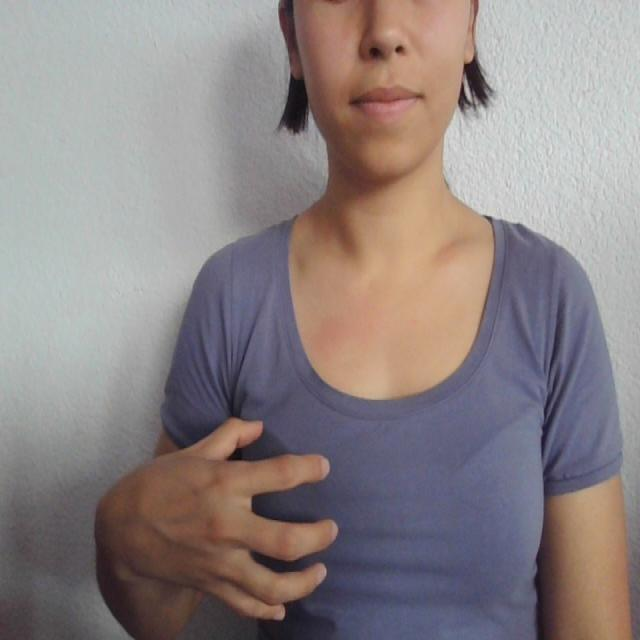Anne: (117, 408, 545, 637)
